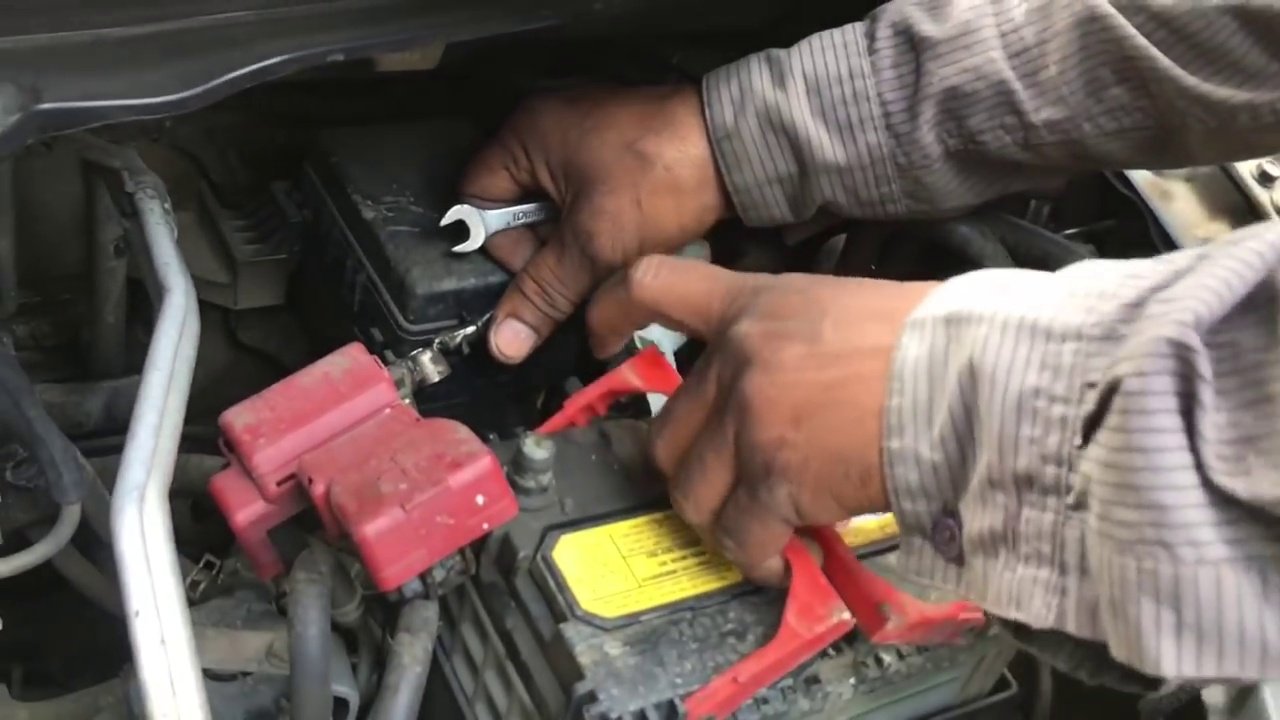battery: (459, 416, 1023, 720)
pos_disconnected: (324, 352, 591, 542)
pos_touched: (330, 155, 677, 550)
